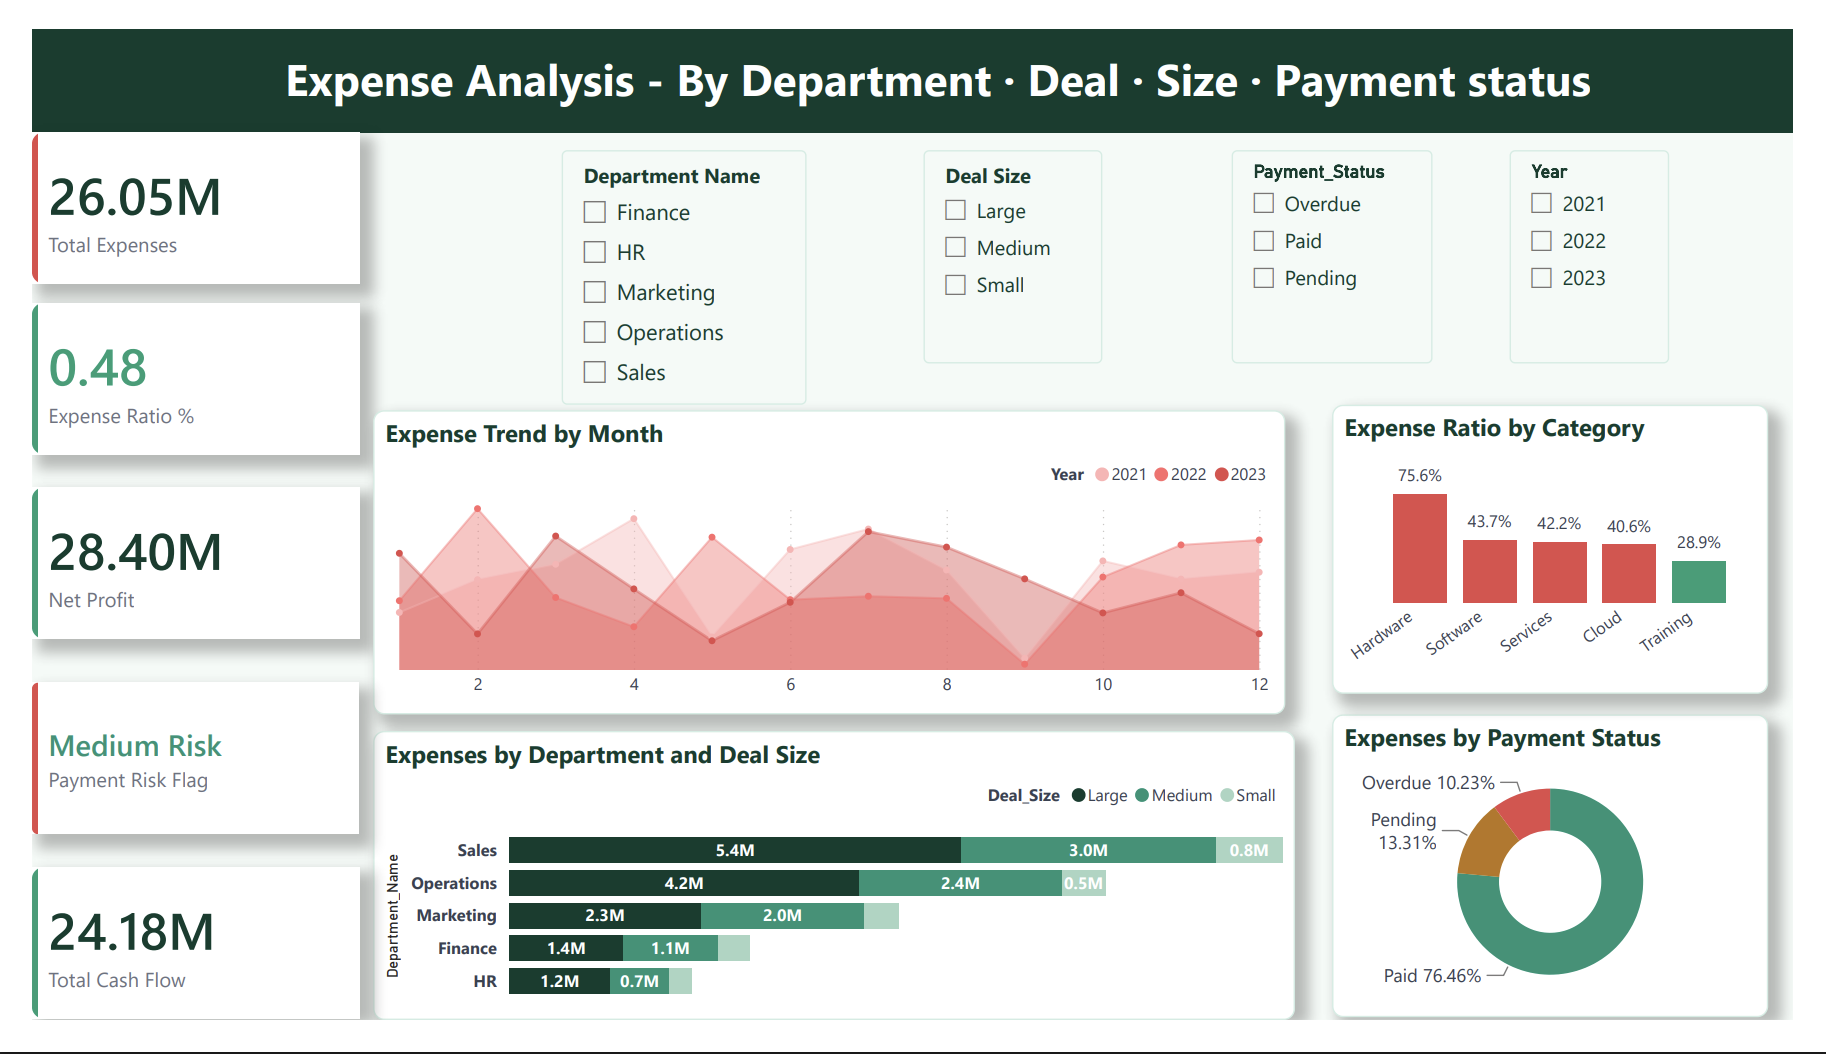

Layout of this report page (visuals, bound fields, positions):
{"tool":"powerbi","page":{"name":"Expense Analysis","canvas":[1280,720],"ordinal":2},"visuals":[{"type":"shape","box":[0,0,1280,75],"z":0},{"type":"textbox","box":[179,8.8,1035.9,57.4],"z":1000},{"type":"cardVisual","fields":{"Data":["_Measure (2).Total Expenses"]},"box":[0,74.9,238.3,109.9],"z":2000},{"type":"cardVisual","fields":{"Data":["_Measure (2).Net Profit"]},"box":[0,332.6,238.3,109.9],"z":3000},{"type":"cardVisual","fields":{"Data":["_Measure (2).Expense Ratio %"]},"box":[0,199.4,238.3,109.9],"z":4000},{"type":"areaChart","title":"Expense Trend by Month","fields":{"Category":["Date_Table.Month_Number"],"Y":["_Measure (2).Total Expenses"],"Series":["Date_Table.Year"]},"box":[248,277.2,663.3,220.8],"z":5000},{"type":"barChart","title":"Expenses by Department and Deal Size","fields":{"Category":["Departments.Department_Name"],"Y":["_Measure (2).Total Expenses"],"Series":["Transactions.Deal_Size"]},"box":[248,509.7,670.2,210.1],"z":6000},{"type":"donutChart","title":"Expenses by Payment Status","fields":{"Category":["Transactions.Payment_Status"],"Y":["_Measure (2).Total Expenses"]},"box":[945.4,498,316.1,219.8],"z":7000},{"type":"clusteredColumnChart","title":"Expense Ratio by Category","fields":{"Category":["Products.Category"],"Y":["_Measure (2).Expense Ratio %"]},"box":[945.4,273.3,316.1,210.1],"z":8000},{"type":"cardVisual","fields":{"Data":["_Measure (2).Payment Risk Flag"]},"box":[0,474.7,237.3,109.9],"z":9000},{"type":"cardVisual","fields":{"Data":["_Measure (2).Total Cash Flow"]},"box":[0,608.9,238.3,109.9],"z":10000},{"type":"slicer","fields":{"Values":["Date_Table.Year"]},"box":[1073.8,87.5,115.7,155.6],"z":11000},{"type":"slicer","fields":{"Values":["Departments.Department_Name"]},"box":[385.2,87.5,178,185.8],"z":12000},{"type":"slicer","fields":{"Values":["Transactions.Deal_Size"]},"box":[647.8,87.5,130.3,155.6],"z":13000},{"type":"slicer","fields":{"Values":["Transactions.Payment_Status"]},"box":[872.5,87.5,145.9,155.6],"z":13001}]}

Visuals, with their boxes in screenshot pixels (x1, y1, x2, y2), scaled from the page's 1280x720 canvas onto the 1826x1054 screenshot:
shape: <box>0,0,1825,110</box>
textbox: <box>255,13,1733,97</box>
cardVisual - _Measure (2).Total Expenses: <box>0,110,340,271</box>
cardVisual - _Measure (2).Net Profit: <box>0,487,340,648</box>
cardVisual - _Measure (2).Expense Ratio %: <box>0,292,340,453</box>
"Expense Trend by Month" areaChart: <box>354,406,1300,729</box>
"Expenses by Department and Deal Size" barChart: <box>354,746,1310,1053</box>
"Expenses by Payment Status" donutChart: <box>1349,729,1800,1051</box>
"Expense Ratio by Category" clusteredColumnChart: <box>1349,400,1800,708</box>
cardVisual - _Measure (2).Payment Risk Flag: <box>0,695,339,856</box>
cardVisual - _Measure (2).Total Cash Flow: <box>0,891,340,1052</box>
slicer - Date_Table.Year: <box>1532,128,1697,356</box>
slicer - Departments.Department_Name: <box>550,128,803,400</box>
slicer - Transactions.Deal_Size: <box>924,128,1110,356</box>
slicer - Transactions.Payment_Status: <box>1245,128,1453,356</box>
